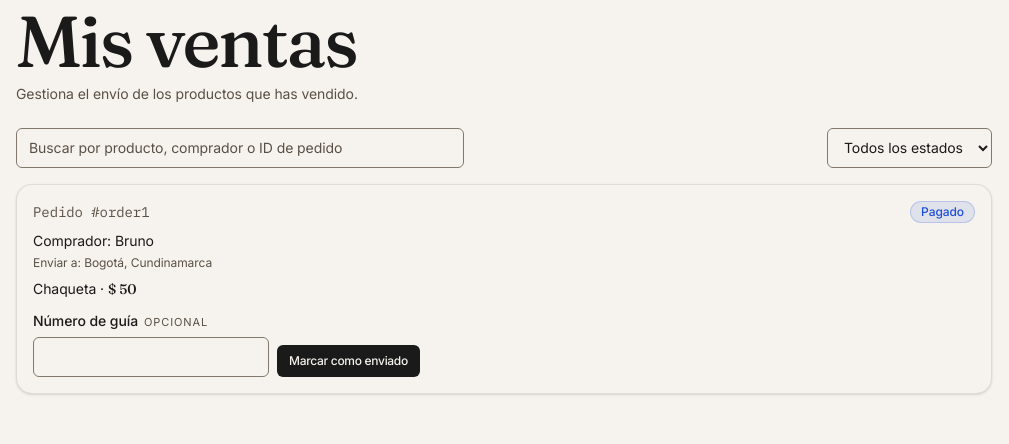
Test: MisVentasPage › muestra un mensaje de error si falla marcar como enviado
Expected: the text "Pedido #order1" is shown, [33,202,150,222]
Click the button "Marcar como enviado" at x=348, y=361, box [277,345,420,377]
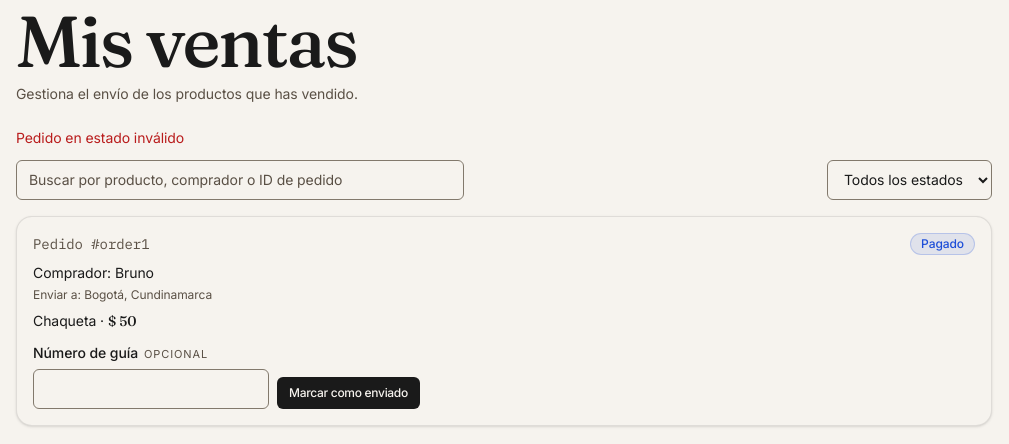
Now the text "Pedido en estado inválido" is shown, box [16,129,184,146]
